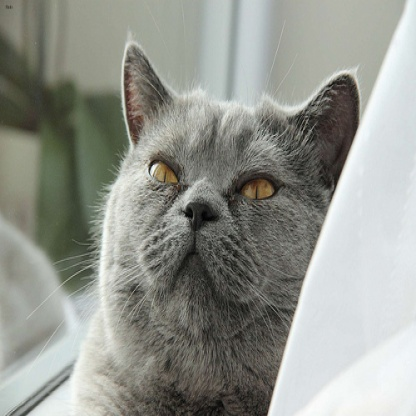british_shorthair: (72, 40, 358, 416)
